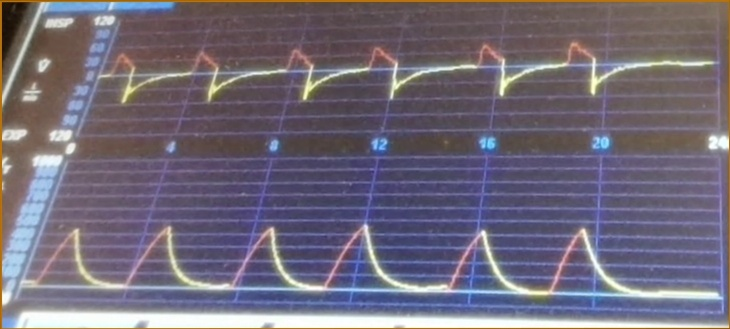Accumulation Flow: (110, 35, 643, 134)
Volume: (45, 216, 652, 309)
